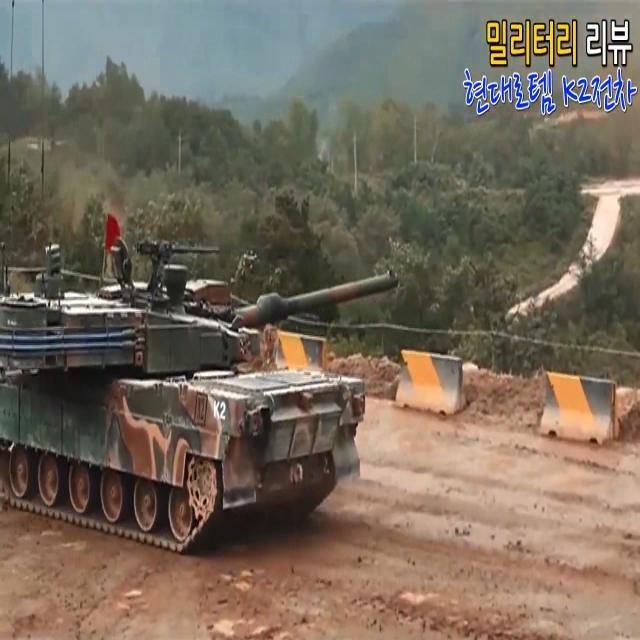korea tank: (0, 240, 404, 556)
